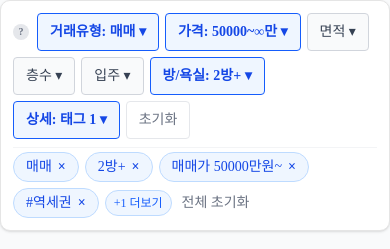
Scenario: FilterBar — 모바일 필터 칩 +N 더보기 토글 › '접기' 클릭 시 다시 첫 3개로 축소 + '+N 더보기' 버튼 복귀
The image size is (390, 249).
Click the button "+1 더보기": (138, 203) [105, 190, 172, 216]
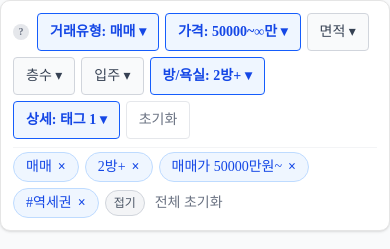
Click the button "접기": (125, 203) [105, 190, 145, 216]
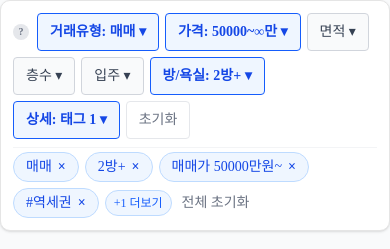
Result: the button "+1 더보기" is shown at [105, 190, 172, 216]
Result: the button "접기" is gone
